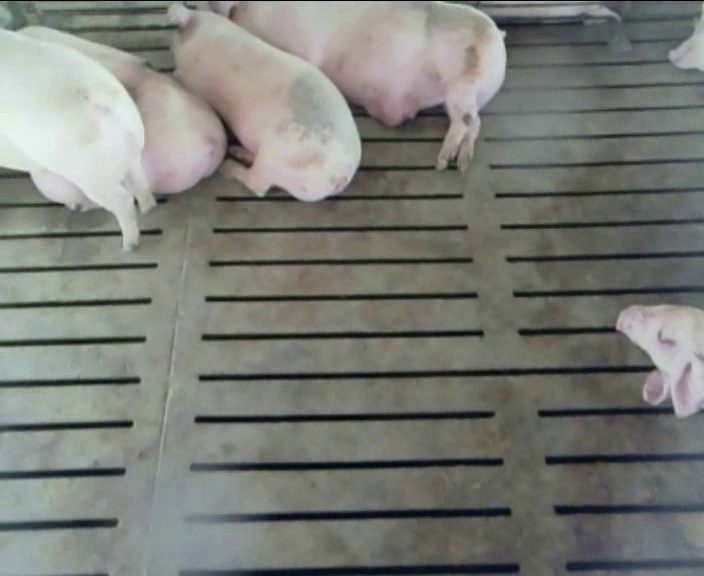pig: (218, 1, 505, 170), (171, 1, 360, 200), (18, 26, 225, 193)
